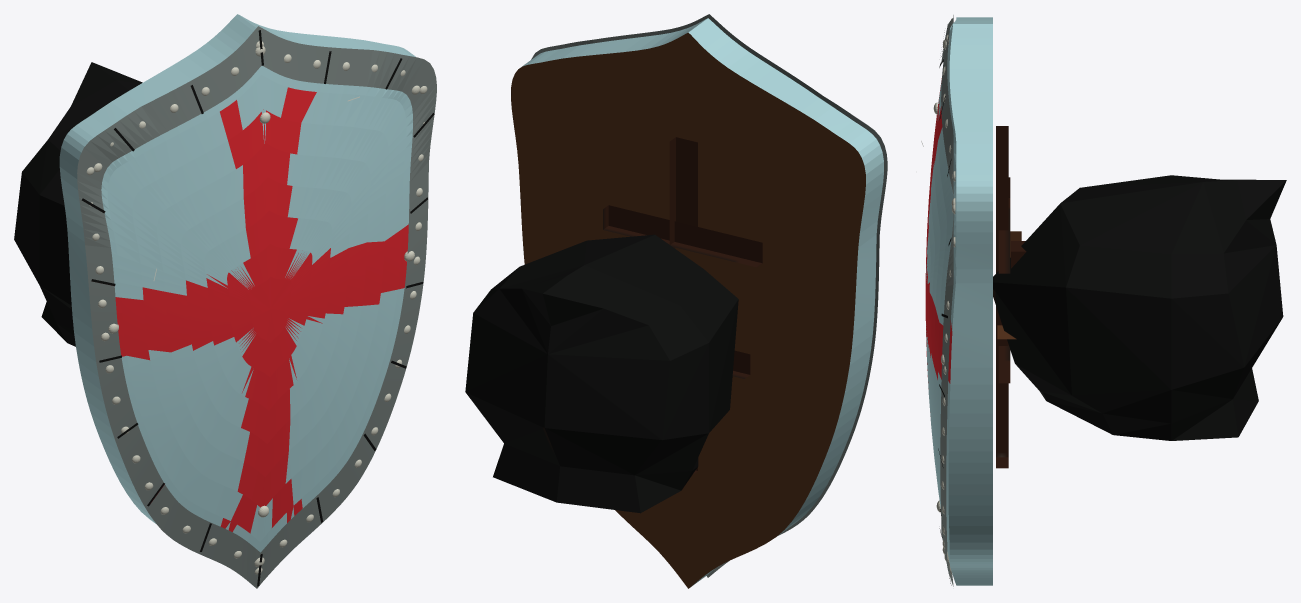
File: Shield.obj
3 renders of one model, left to right at view 1: azimuth 30°, elevation 25°; view 2: azimuth 150°, elevation 25°; view 3: azimuth 270°, elevation 25°, orthographic.
Visible parts, largest first — view 1: single_mesh_shield_body_with_painted_cross_material_red_paint.00; view 2: single_mesh_shield_body_with_painted_cross_material_red_paint.00; view 3: single_mesh_shield_body_with_painted_cross_material_red_paint.00.
Part boxes in pixels (x1,y1,x2,y2): single_mesh_shield_body_with_painted_cross_material_red_paint.00: (14, 14, 436, 588); single_mesh_shield_body_with_painted_cross_material_red_paint.00: (465, 14, 887, 588); single_mesh_shield_body_with_painted_cross_material_red_paint.00: (921, 15, 1286, 586).
Size of the model in its own units: 1.46 by 2.19 by 1.29.
Materials: 9 (9 with a texture image).
